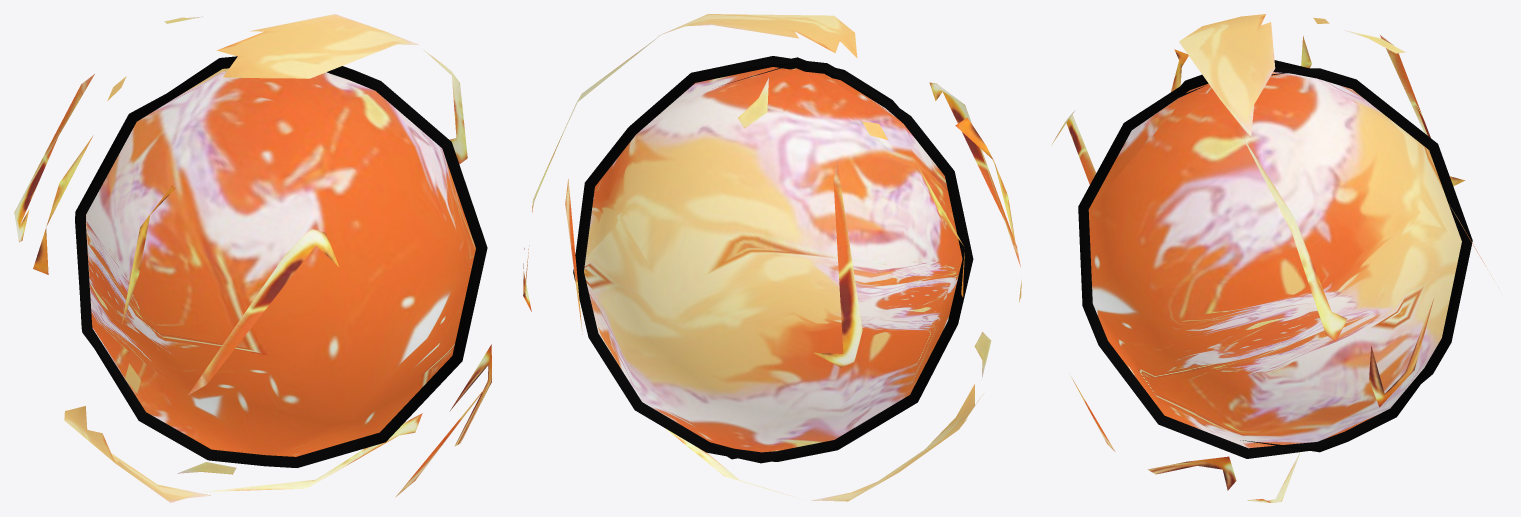
The model's file is cff65b4b-8ceb-4a49-ad95-eea5d232b660.glb.
3 renders of one model, left to right at view 1: azimuth 30°, elevation 25°; view 2: azimuth 150°, elevation 25°; view 3: azimuth 270°, elevation 25°, orthographic. The views are drawn at different scales.
Visible parts, largest first — view 1: Projectile02Anime; view 2: Projectile02Anime; view 3: Projectile02Anime.
Part boxes in pixels (<box>): Projectile02Anime: <box>14,14,492,502</box>; Projectile02Anime: <box>523,14,1021,501</box>; Projectile02Anime: <box>1051,14,1498,502</box>.
Size of what is drawn, in the model's own units: 0.3746 by 0.3854 by 0.3538.
Materials: 2 (1 with a texture image).
